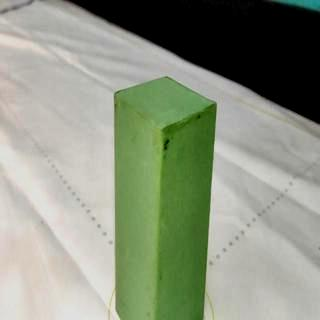greenbox: (112, 73, 218, 320)
